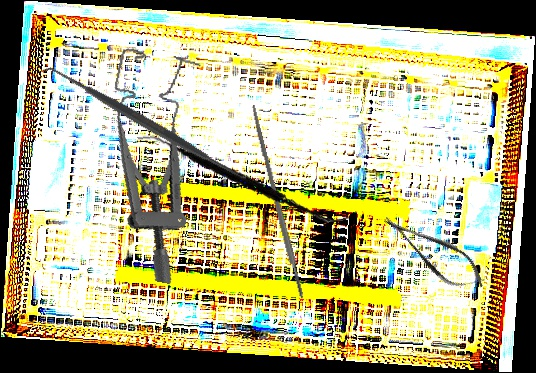Micro Scissor: (375, 201, 493, 303)
Scalpel Handle: (248, 104, 306, 300)
Spatula Surgical: (137, 107, 349, 248), (38, 54, 252, 192)
Speculum: (76, 45, 220, 285)
